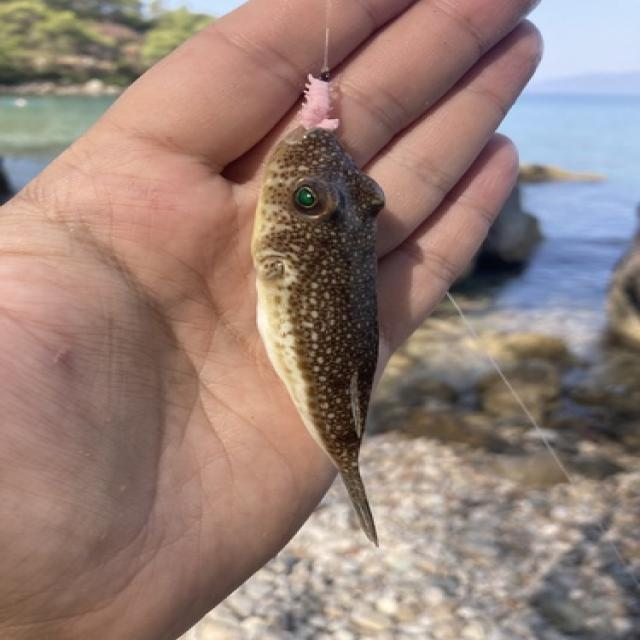Balik: (251, 127, 383, 543)
